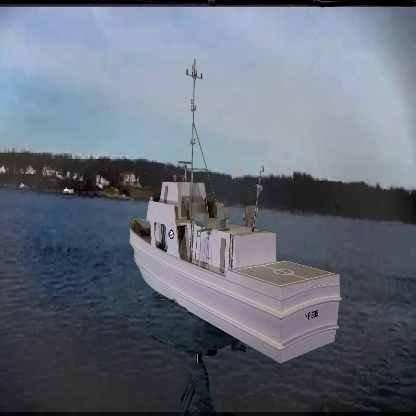YP689: (128, 58, 342, 366)
